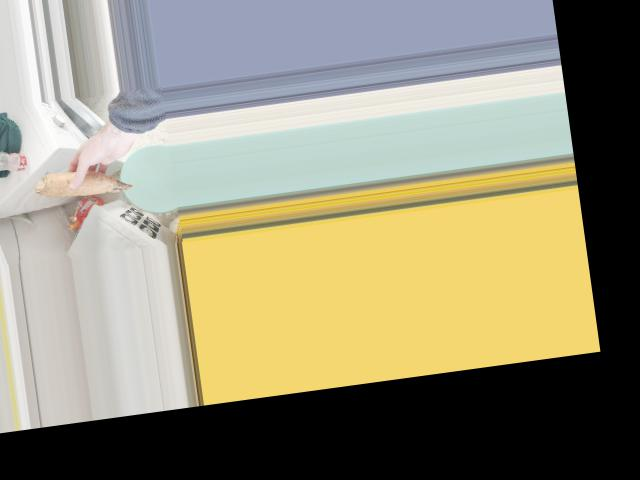sweet_potato: (34, 162, 128, 201)
